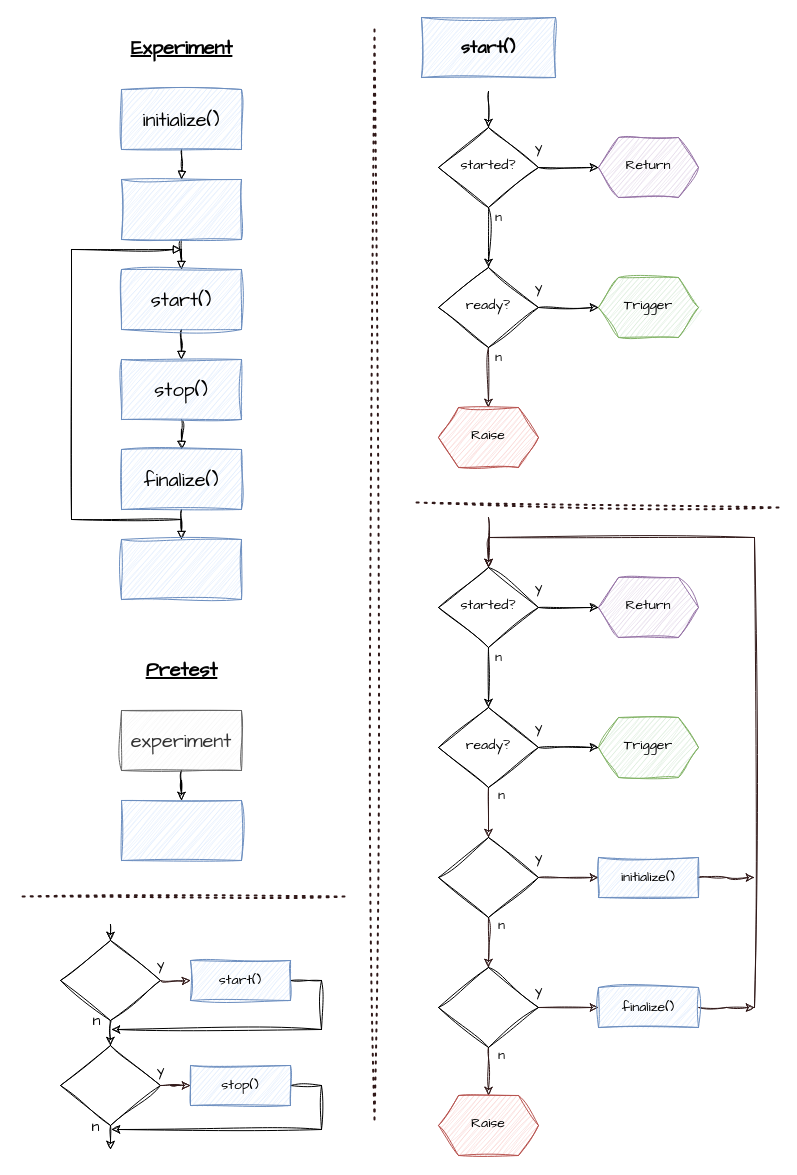
Image size: 797x1175. Some labels were removed from this diagram. The centre of each missing label's shape, as x and y in pixels:
"shutdown()" belongs at pixel 181 569.
"supports finalize?" belongs at pixel 488 1007.
"supports initialize?" belongs at pixel 488 877.
"supports start?" belongs at pixel 110 980.
"supports stop?" belongs at pixel 110 1085.
"test()" belongs at pixel 181 209.
"validate()" belongs at pixel 181 830.
